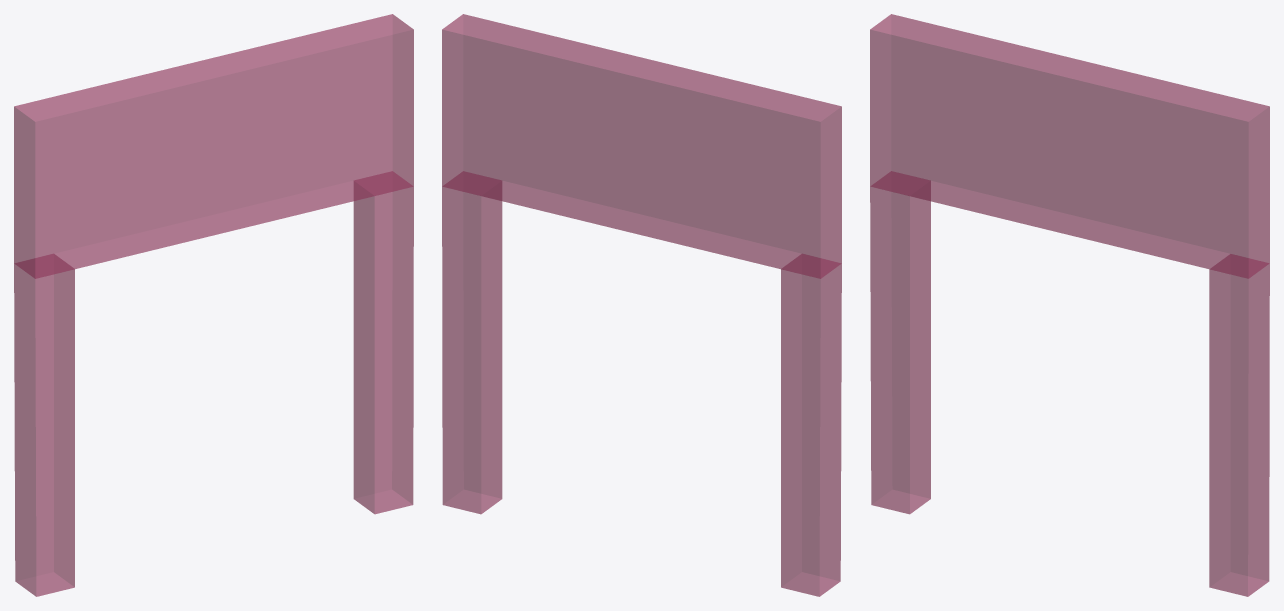
Rendered from SM_Bld_Base_Wall_Door_Double_01_Collision.fbx.
3 renders of one model, left to right at view 1: azimuth 30°, elevation 25°; view 2: azimuth 150°, elevation 25°; view 3: azimuth 330°, elevation 25°, orthographic.
Parts seen in each view (by area): view 1: SM_Bld_Base_Wall_Door_Double_01_Collision; view 2: SM_Bld_Base_Wall_Door_Double_01_Collision; view 3: SM_Bld_Base_Wall_Door_Double_01_Collision.
Boxes of the visible parts, x1,y1,x2,y2 form: SM_Bld_Base_Wall_Door_Double_01_Collision: (14,14,413,596); SM_Bld_Base_Wall_Door_Double_01_Collision: (442,14,841,596); SM_Bld_Base_Wall_Door_Double_01_Collision: (870,14,1269,596).
Bounding box in the file's own units: 252 × 303 × 24.49.
